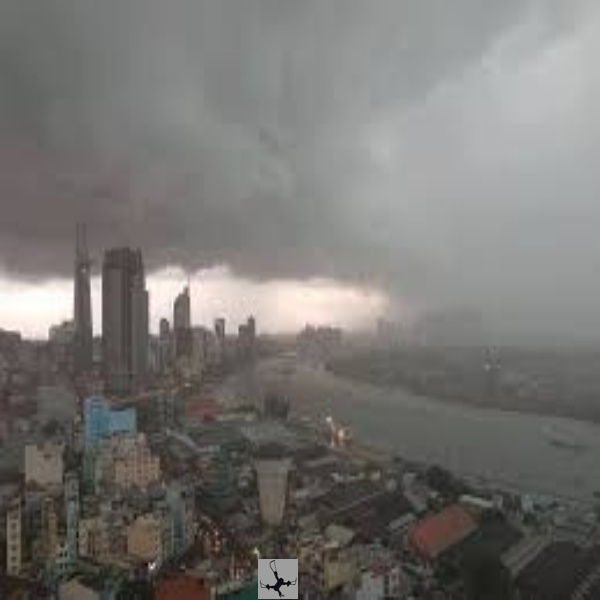drone: (260, 561, 297, 598)
